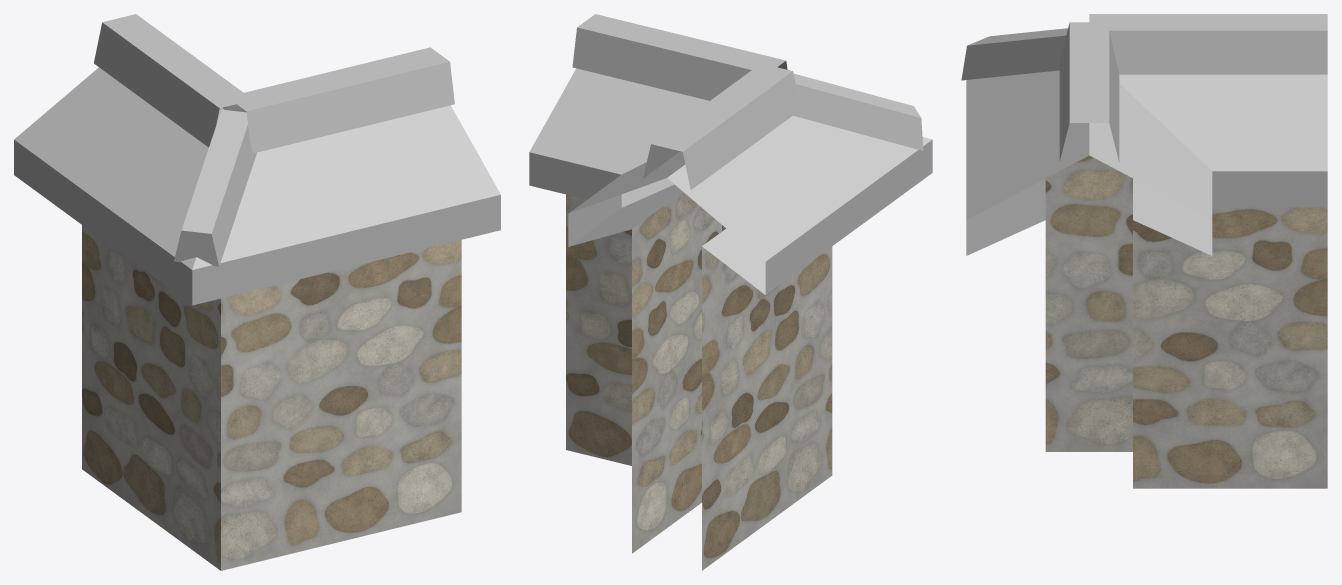
File: Hanok_Wall_Corner_01.fbx
3 views of the same model, side by side, from view 1: azimuth 30°, elevation 25°; view 2: azimuth 150°, elevation 25°; view 3: azimuth 270°, elevation 25° (orthographic). The views are drawn at different scales.
Visible parts, largest first — view 1: Wall_Corner_01; view 2: Wall_Corner_01; view 3: Wall_Corner_01.
Boxes of the visible parts, left/top/right/bottom form: Wall_Corner_01: left=14, top=14, right=500, bottom=570; Wall_Corner_01: left=529, top=14, right=932, bottom=570; Wall_Corner_01: left=961, top=14, right=1327, bottom=488.
Bounding box in the file's own units: 1.84 × 2.49 × 1.84.
